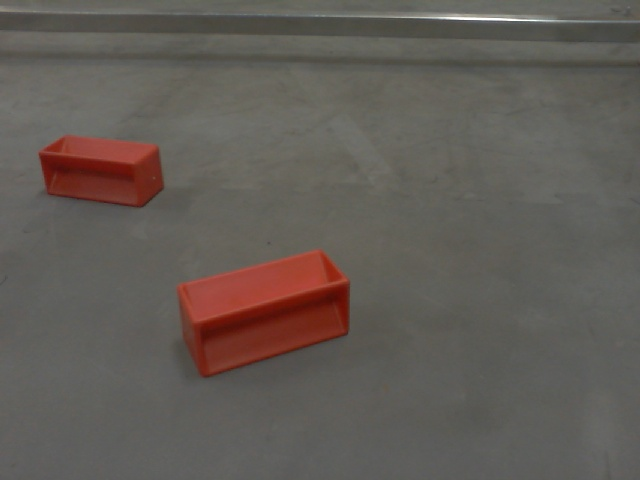RedSample: (173, 249, 352, 377), (37, 130, 166, 209)
